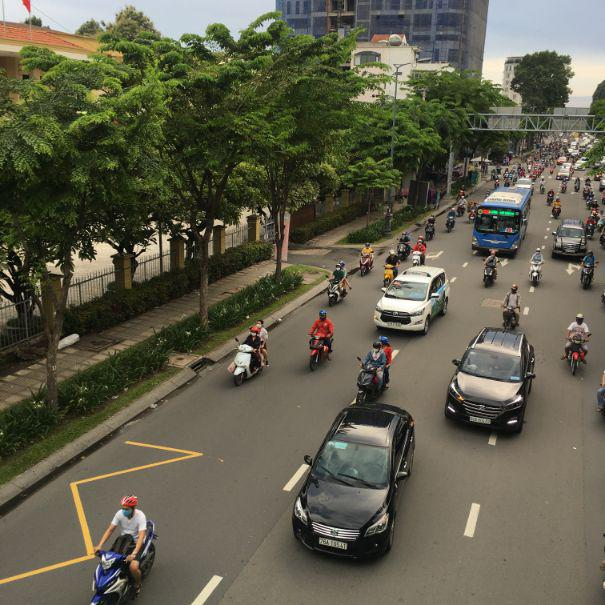bus: (471, 189, 534, 255)
car: (291, 403, 417, 562), (444, 324, 539, 438), (372, 267, 450, 336), (551, 221, 588, 258)
motorbike: (91, 518, 155, 604), (354, 358, 390, 405), (227, 346, 266, 387), (564, 339, 590, 377), (308, 334, 334, 371), (328, 274, 352, 307), (503, 306, 523, 331), (446, 212, 457, 232)
